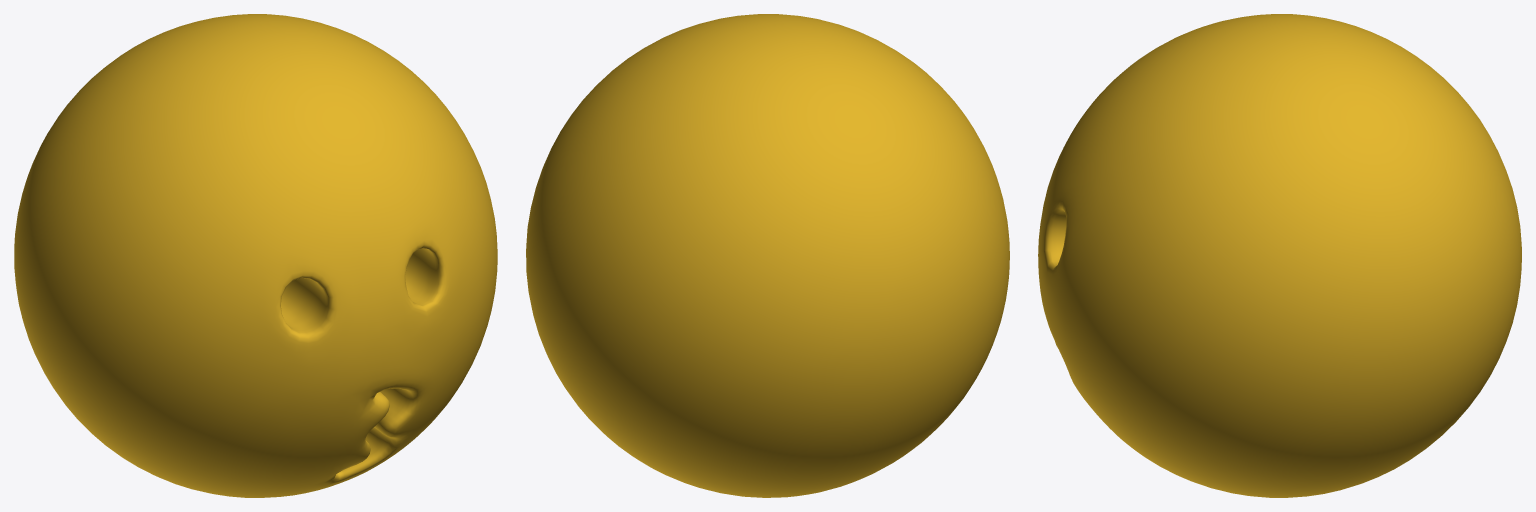
The model's file is kissing face FBX.glb.
3 renders of one model, left to right at view 1: azimuth 30°, elevation 25°; view 2: azimuth 150°, elevation 25°; view 3: azimuth 270°, elevation 25°, orthographic.
Parts seen in each view (by area): view 1: Group28290; view 2: Group28290; view 3: Group28290.
Boxes of the visible parts, x1,y1,x2,y2 form: Group28290: [14, 14, 497, 497]; Group28290: [526, 14, 1009, 497]; Group28290: [1038, 14, 1521, 497].
Size of the model in its own units: 0.561 by 0.5615 by 0.561.
